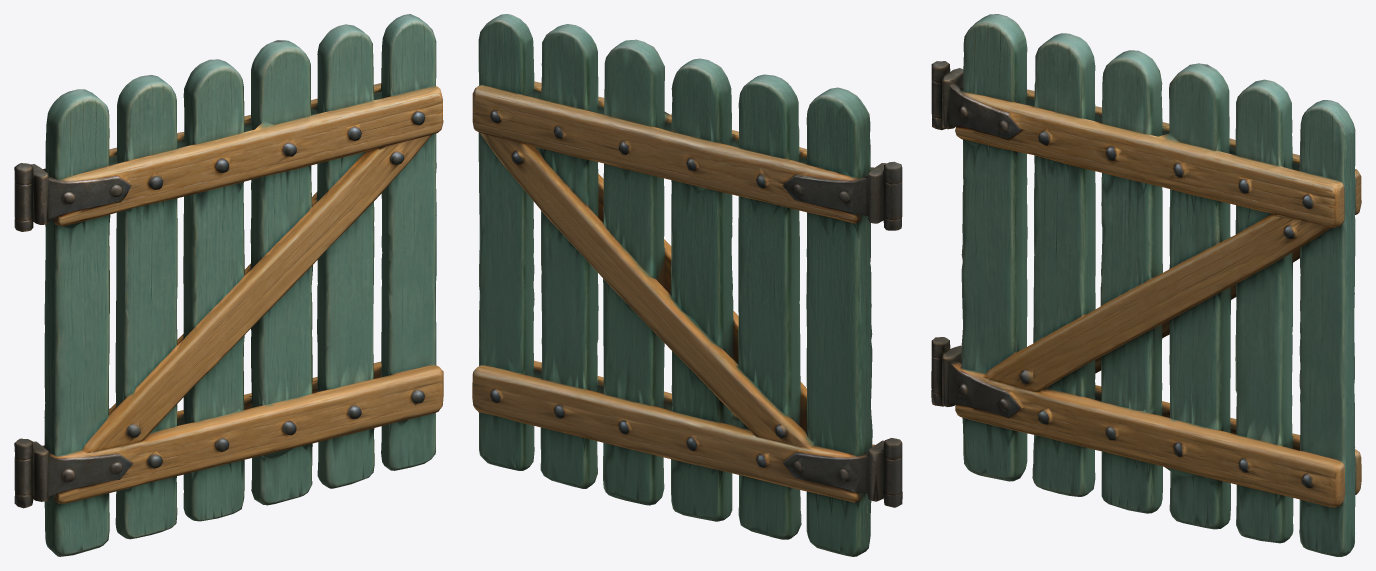
The model's file is tripo_convert_0cc7a61d-c2b5-4e61-856b-56df6aab1133.fbx.
The picture shows the model from 3 angles, left to right: view 1: azimuth 30°, elevation 25°; view 2: azimuth 150°, elevation 25°; view 3: azimuth 330°, elevation 25°; orthographic projection.
Visible parts, largest first — view 1: tripo_node_0cc7a61d; view 2: tripo_node_0cc7a61d; view 3: tripo_node_0cc7a61d.
Part boxes in pixels (x1,y1,x2,y2): tripo_node_0cc7a61d: (14,14,443,556); tripo_node_0cc7a61d: (472,14,902,556); tripo_node_0cc7a61d: (931,14,1361,556).
Size of the model in its own units: 0.9384 by 0.9804 by 0.1281.
1 material, 1 textured.
